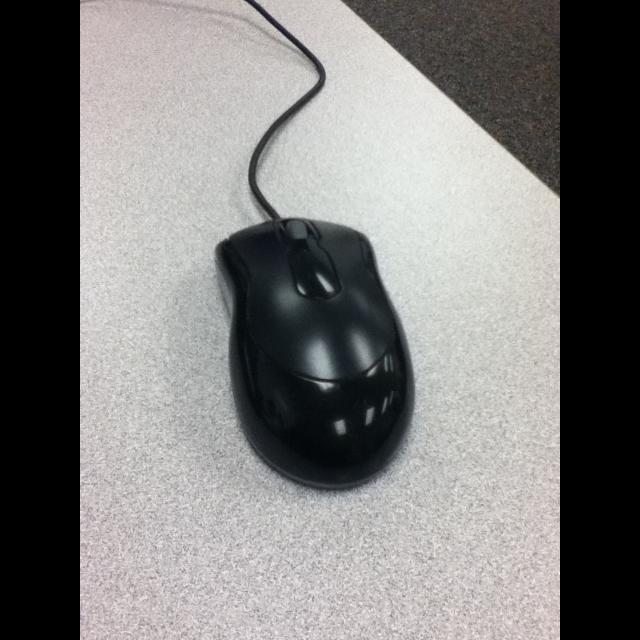Computer-Mouse: (214, 218, 415, 492)
